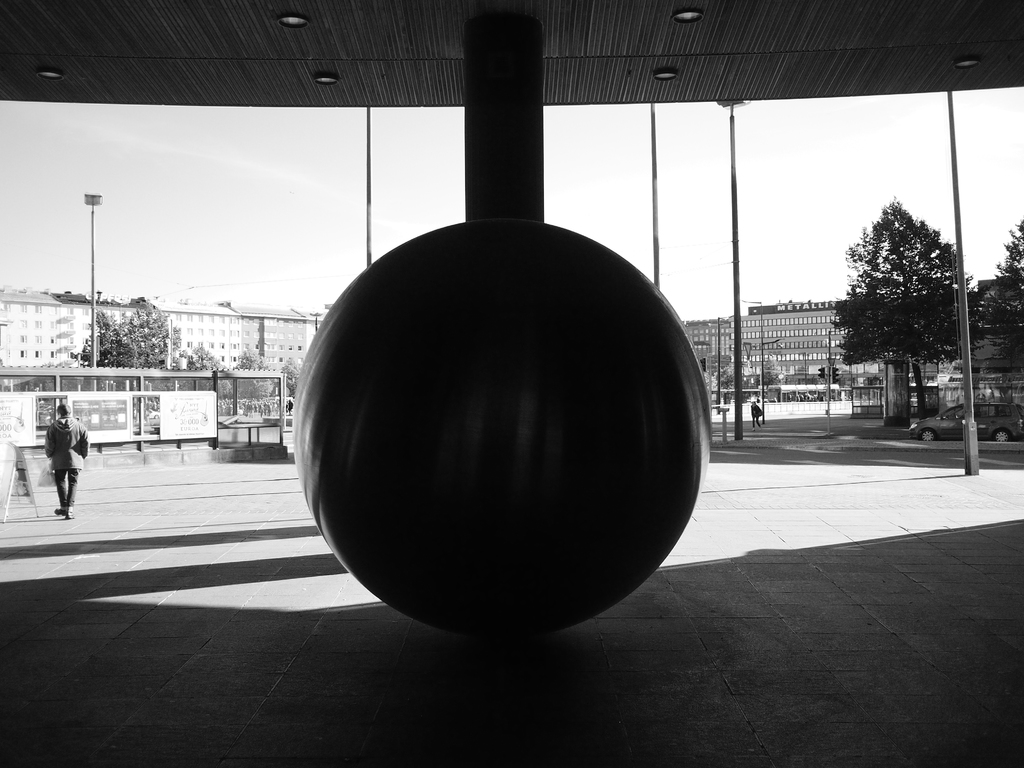Ball: (289, 216, 714, 647)
